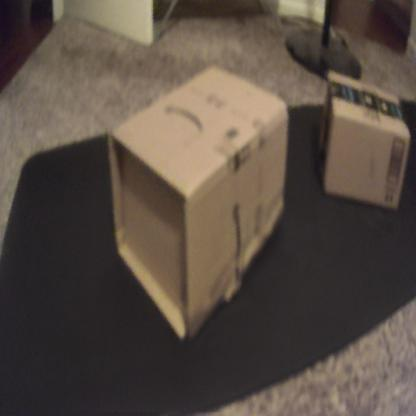package: (107, 61, 289, 346), (318, 69, 411, 217)
